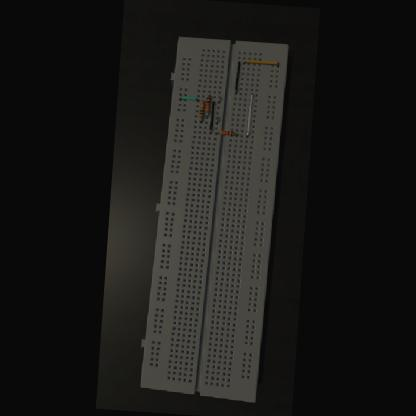breadboard: (138, 34, 290, 402)
resistor: (200, 102, 206, 117), (220, 129, 235, 135), (206, 96, 211, 112)
wire: (245, 59, 280, 66), (247, 92, 252, 136), (210, 100, 215, 132), (236, 60, 240, 94), (180, 96, 199, 101), (217, 115, 219, 124), (234, 132, 238, 136), (200, 117, 202, 122), (219, 95, 220, 102), (207, 110, 208, 116), (217, 132, 220, 134), (203, 100, 204, 102), (209, 94, 210, 96)
